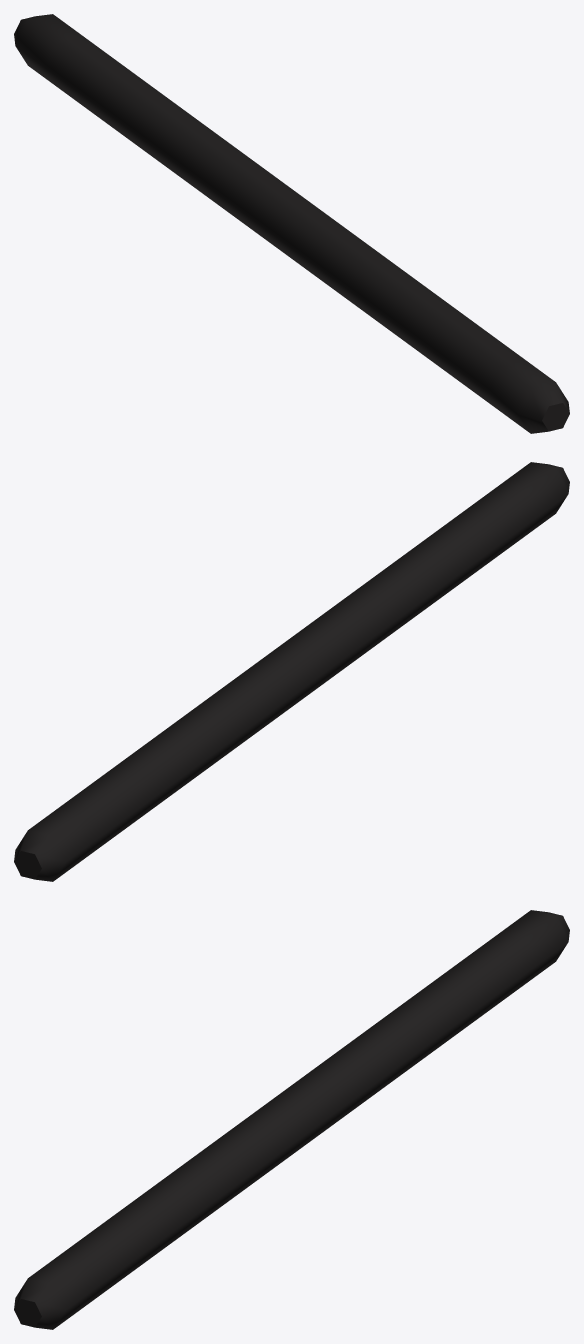
The model's file is M_Tdengguan01.FBX.
3 views of the same model, one above another, from view 1: azimuth 30°, elevation 25°; view 2: azimuth 150°, elevation 25°; view 3: azimuth 330°, elevation 25° (orthographic).
Parts seen in each view (by area): view 1: M_Tdengguan01_02, M_Tdengguan01_01; view 2: M_Tdengguan01_02, M_Tdengguan01_01; view 3: M_Tdengguan01_02, M_Tdengguan01_01.
Boxes of the visible parts, left/top/right/bottom form: M_Tdengguan01_02: left=45, top=36, right=525, bottom=411; M_Tdengguan01_01: left=14, top=14, right=569, bottom=433; M_Tdengguan01_02: left=58, top=484, right=538, bottom=859; M_Tdengguan01_01: left=14, top=462, right=569, bottom=881; M_Tdengguan01_02: left=58, top=932, right=538, bottom=1307; M_Tdengguan01_01: left=14, top=910, right=569, bottom=1329.
Size of the model in its own units: 0.1682 by 0.1457 by 3.07.
